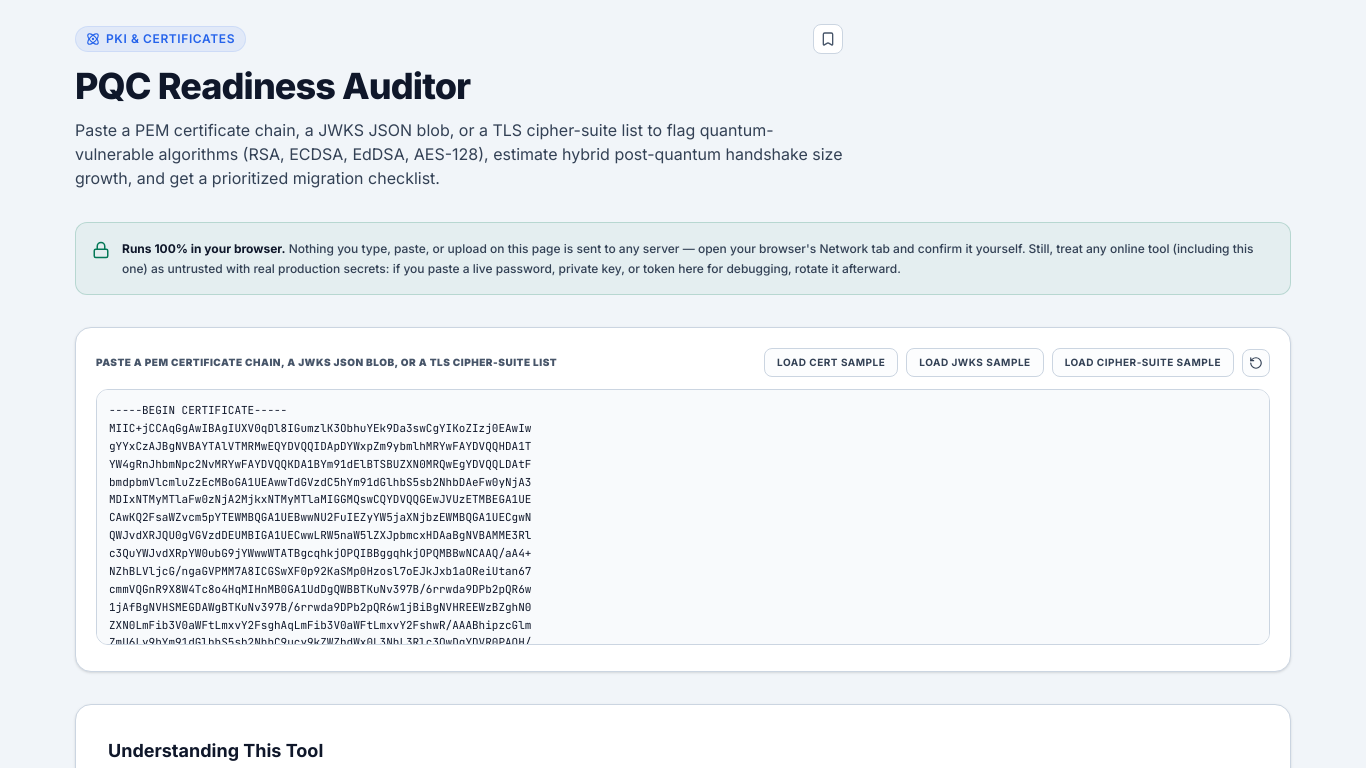
Test: PqcReadinessAuditor page › pasting an unrecognized payload shows the unrecognized-input message
Replace the text in the text box named "certificate, jwks, or cipher-suite input" with "this is not a recognizable crypto payload" at (683, 517), box [96, 389, 1270, 645]
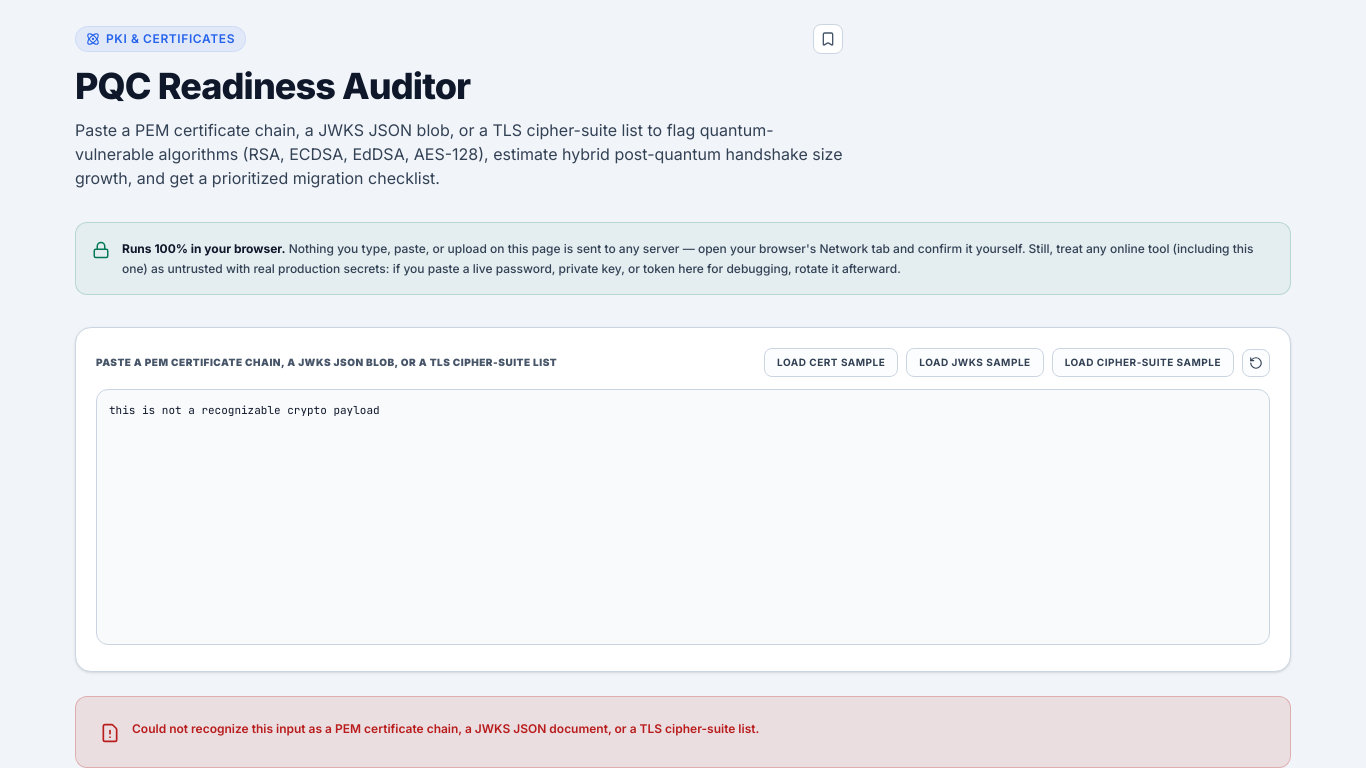
Expected: the text "Could not recognize this input" is shown, [132, 721, 759, 736]
